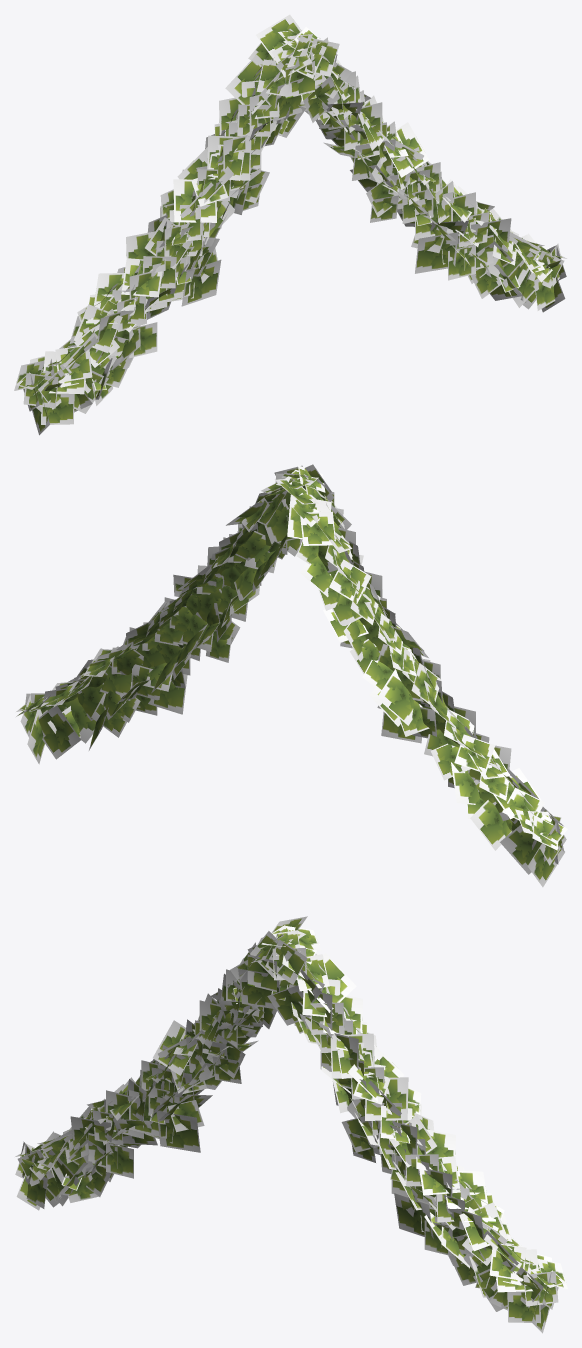
Rendered from Ivy_01.glb.
3 renders of one model, top to bottom at view 1: azimuth 30°, elevation 25°; view 2: azimuth 150°, elevation 25°; view 3: azimuth 330°, elevation 25°, orthographic.
Visible parts, largest first — view 1: Ivy_01_LOD0; view 2: Ivy_01_LOD0; view 3: Ivy_01_LOD0.
Boxes of the visible parts, x1,y1,x2,y2 form: Ivy_01_LOD0: (14,14,566,435); Ivy_01_LOD0: (16,464,567,887); Ivy_01_LOD0: (15,916,567,1333).
Size of what is drawn, in the model's own units: 6.56 by 4.05 by 0.8479.
1 material, 1 textured.
